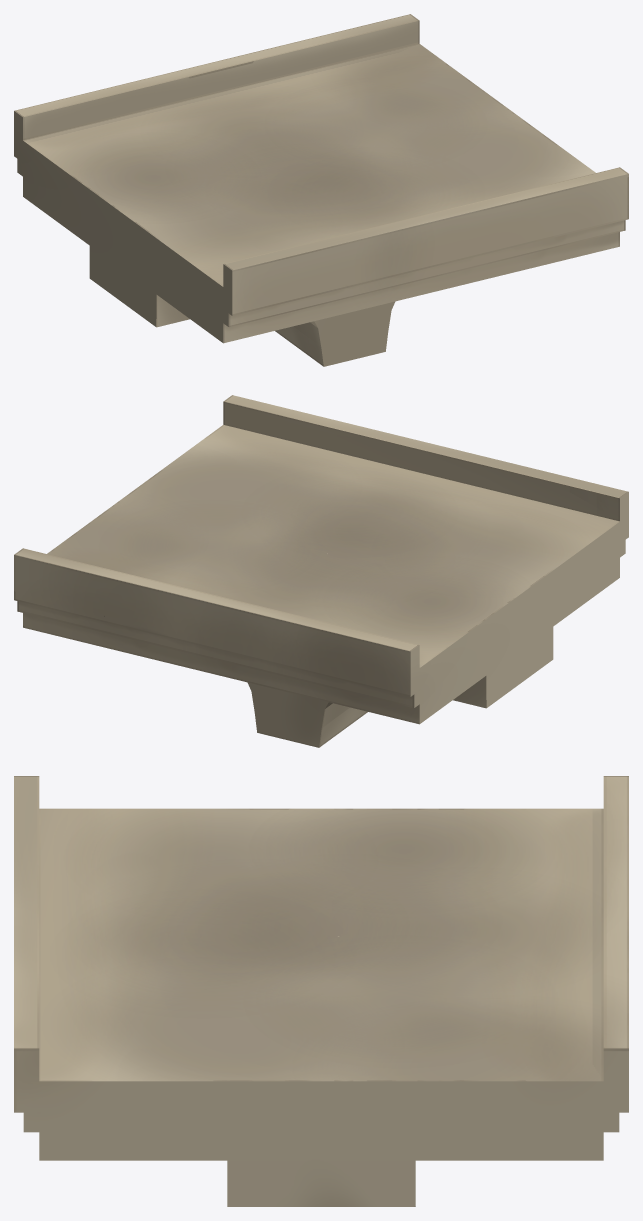
Rendered from bridge_path_1.fbx.
The picture shows the model from 3 angles, top to bottom: view 1: azimuth 30°, elevation 25°; view 2: azimuth 150°, elevation 25°; view 3: azimuth 270°, elevation 25°; orthographic projection. The views are drawn at different scales.
Parts seen in each view (by area): view 1: bridge_path_1; view 2: bridge_path_1; view 3: bridge_path_1.
Boxes of the visible parts, <box> form: bridge_path_1: <box>14,14,628,366</box>; bridge_path_1: <box>14,395,628,747</box>; bridge_path_1: <box>14,776,628,1206</box>.
Size of the model in its own units: 345 by 160 by 328.
